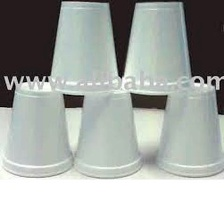paper_cup: (0, 77, 77, 180), (45, 0, 125, 97), (69, 82, 146, 180), (120, 0, 197, 97), (151, 78, 223, 180)
